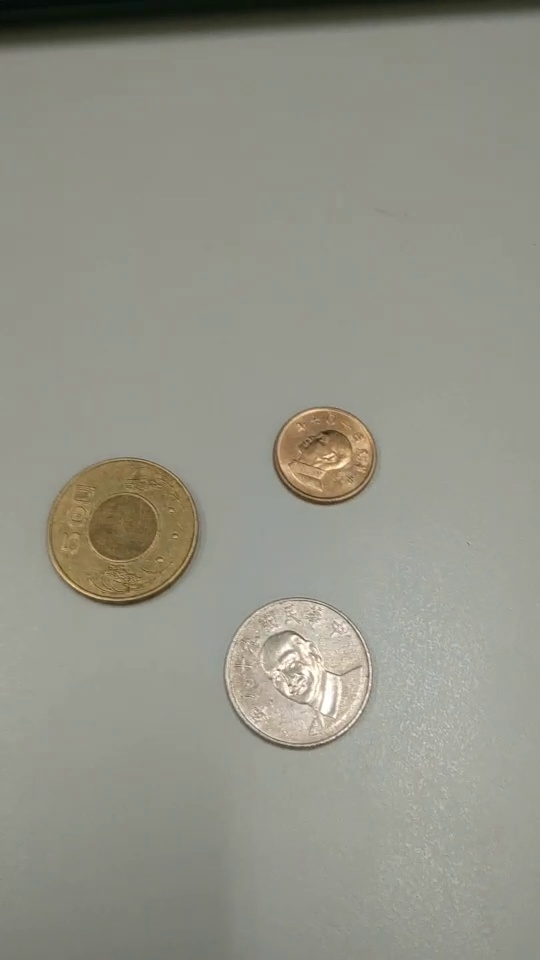NT$ 1: (273, 406, 379, 504)
NT$ 10: (223, 599, 374, 750)
NT$ 50: (46, 457, 202, 610)
